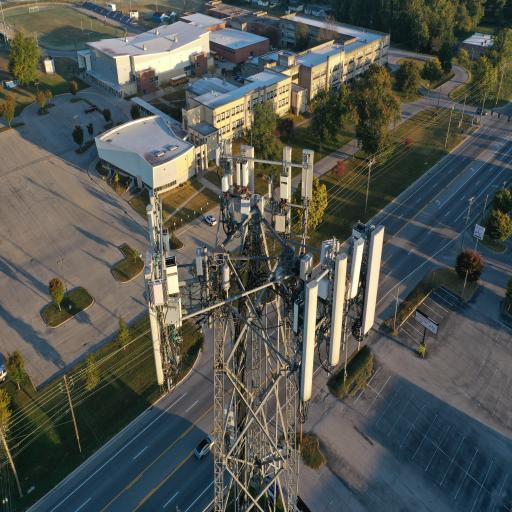supporting_tower: (132, 114, 389, 512)
